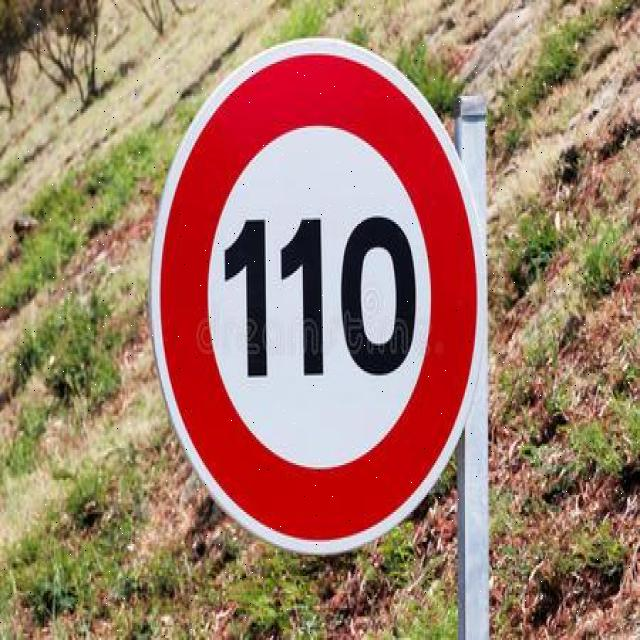speed limit 110: (150, 37, 485, 554)
